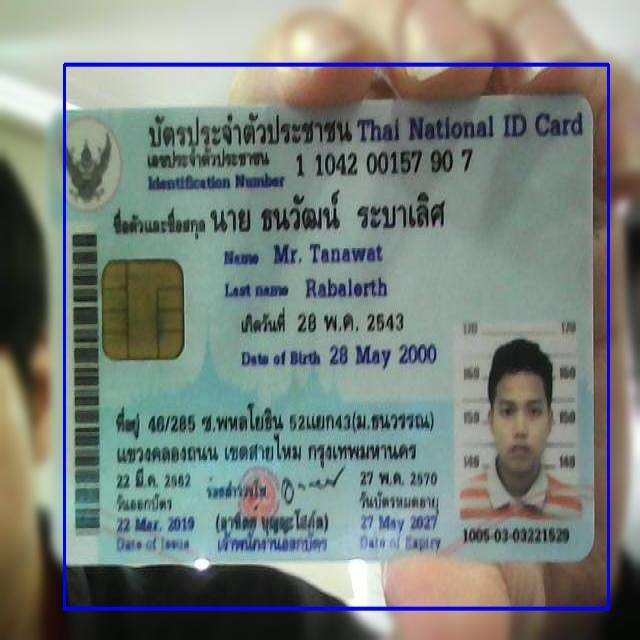Address_th: (108, 399, 446, 474)
Date_of_Birth: (326, 335, 444, 375)
Date_of_Expiry: (356, 508, 438, 538)
Date_of_Issue: (115, 512, 200, 537)
First_Name: (269, 236, 386, 268)
ID_Number: (291, 146, 479, 179)
Image: (455, 321, 577, 523)
Last_Name: (297, 272, 392, 304)
Thai_Name: (208, 184, 451, 236)
